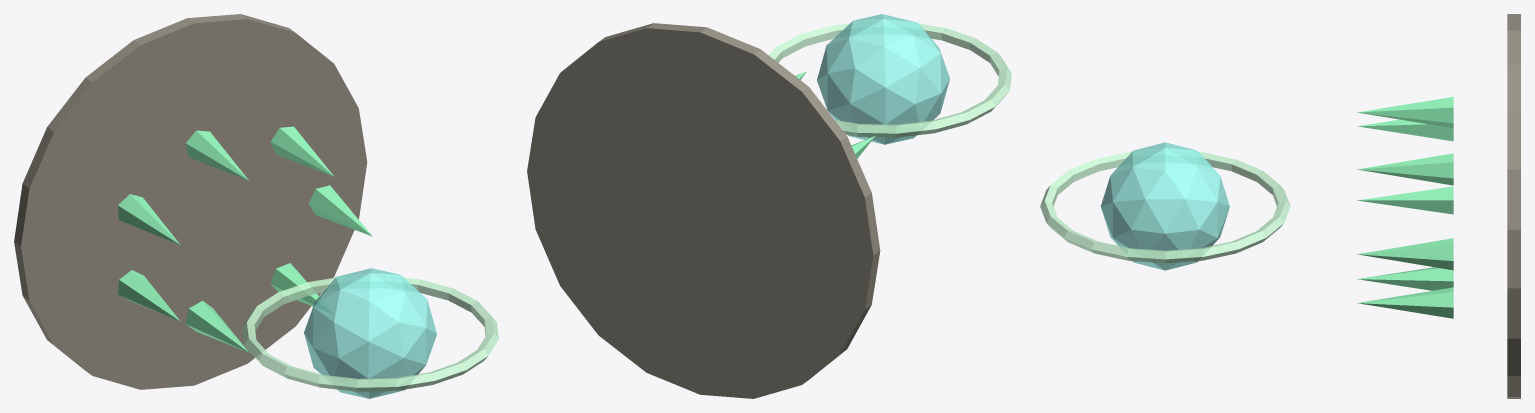
File: 06_weather_terrain_nature_module.glb
3 renders of one model, left to right at view 1: azimuth 30°, elevation 25°; view 2: azimuth 150°, elevation 25°; view 3: azimuth 270°, elevation 25°, orthographic. The views are drawn at different scales.
Parts seen in each view (by area): view 1: terrain_patch, sun_color_preview, weather_halo, nature_or_weather_element_2, nature_or_weather_element_1, nature_or_weather_element_0, nature_or_weather_element_3, nature_or_weather_element_5, nature_or_weather_element_4, nature_or_weather_element_6; view 2: terrain_patch, sun_color_preview, weather_halo; view 3: sun_color_preview, weather_halo, terrain_patch, nature_or_weather_element_0, nature_or_weather_element_1, nature_or_weather_element_2, nature_or_weather_element_6, nature_or_weather_element_4, nature_or_weather_element_5, nature_or_weather_element_3.
Boxes of the visible parts, x1,y1,x2,y2 form: terrain_patch: [14, 14, 367, 389]; sun_color_preview: [304, 268, 436, 398]; weather_halo: [242, 277, 498, 391]; nature_or_weather_element_2: [185, 130, 248, 180]; nature_or_weather_element_1: [271, 126, 334, 176]; nature_or_weather_element_0: [308, 185, 372, 236]; nature_or_weather_element_3: [118, 194, 180, 244]; nature_or_weather_element_5: [185, 300, 248, 352]; nature_or_weather_element_4: [118, 270, 180, 321]; nature_or_weather_element_6: [271, 263, 319, 306]; terrain_patch: [527, 23, 880, 398]; sun_color_preview: [817, 14, 949, 144]; weather_halo: [768, 23, 1011, 137]; sun_color_preview: [1100, 142, 1229, 270]; weather_halo: [1040, 152, 1290, 263]; terrain_patch: [1507, 14, 1520, 398]; nature_or_weather_element_0: [1357, 238, 1453, 270]; nature_or_weather_element_1: [1357, 153, 1453, 185]; nature_or_weather_element_2: [1357, 96, 1453, 128]; nature_or_weather_element_6: [1357, 287, 1453, 318]; nature_or_weather_element_4: [1357, 186, 1453, 214]; nature_or_weather_element_5: [1357, 267, 1453, 290]; nature_or_weather_element_3: [1357, 119, 1453, 141].
Bounding box in the file's own units: 1.44 × 1.44 × 1.78.
